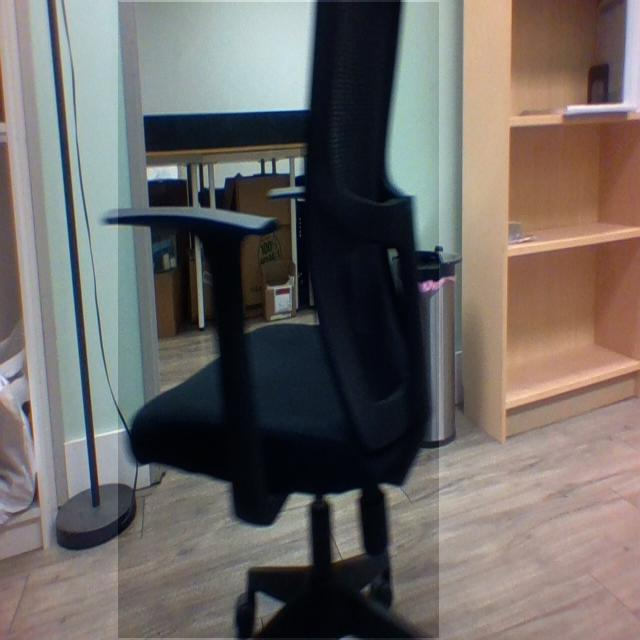chair: (107, 0, 436, 640)
